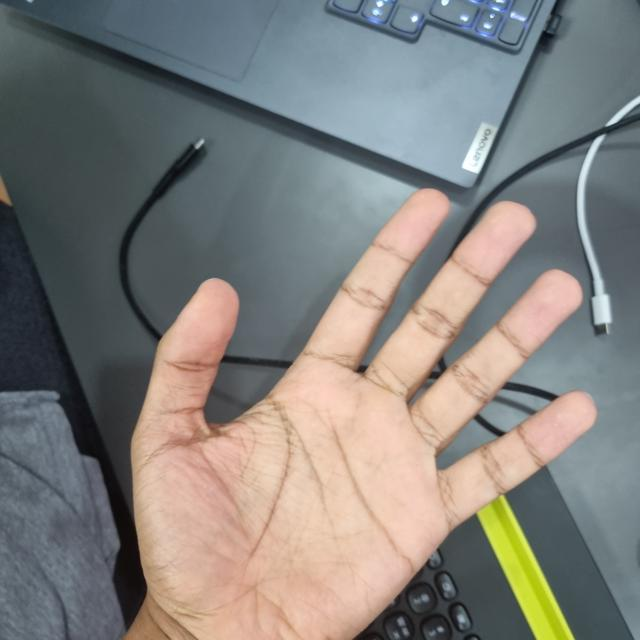Paper: (128, 188, 596, 640)
